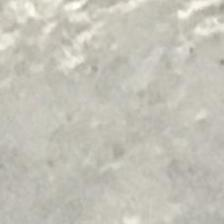Non_Crack: (28, 52, 218, 206)
